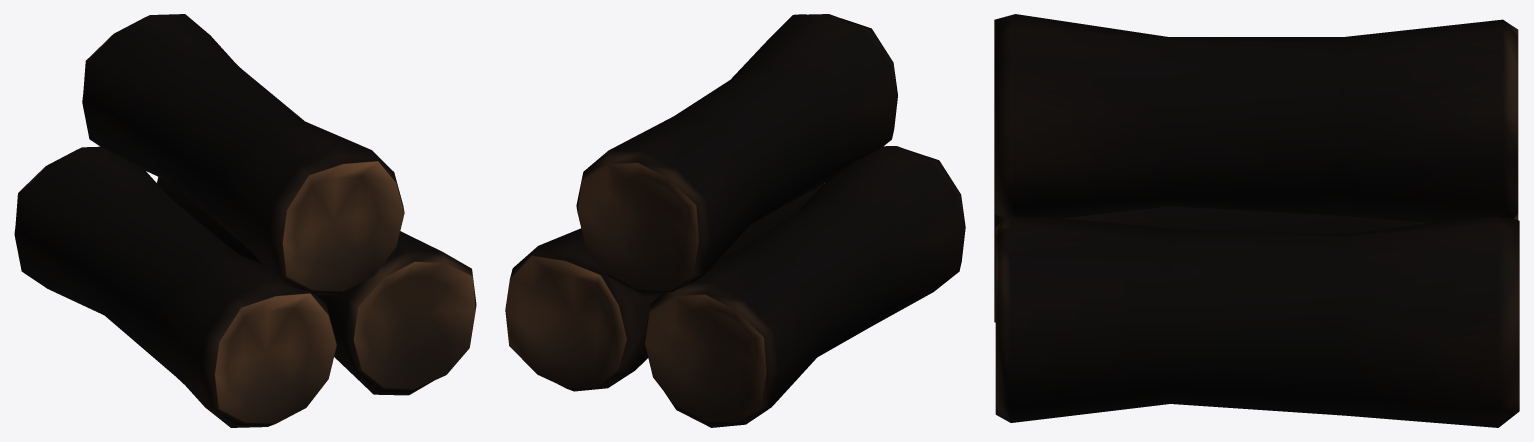
The model's file is Logs_Normal.fbx.
3 views of the same model, side by side, from view 1: azimuth 30°, elevation 25°; view 2: azimuth 150°, elevation 25°; view 3: azimuth 270°, elevation 25° (orthographic). The views are drawn at different scales.
Parts seen in each view (by area): view 1: Logs_Normal; view 2: Logs_Normal; view 3: Logs_Normal.
Part boxes in pixels (<box>): Logs_Normal: <box>14,14,476,427</box>; Logs_Normal: <box>505,14,965,427</box>; Logs_Normal: <box>994,14,1519,427</box>.
Bounding box in the file's own units: 59.63 × 54.47 × 75.34.
